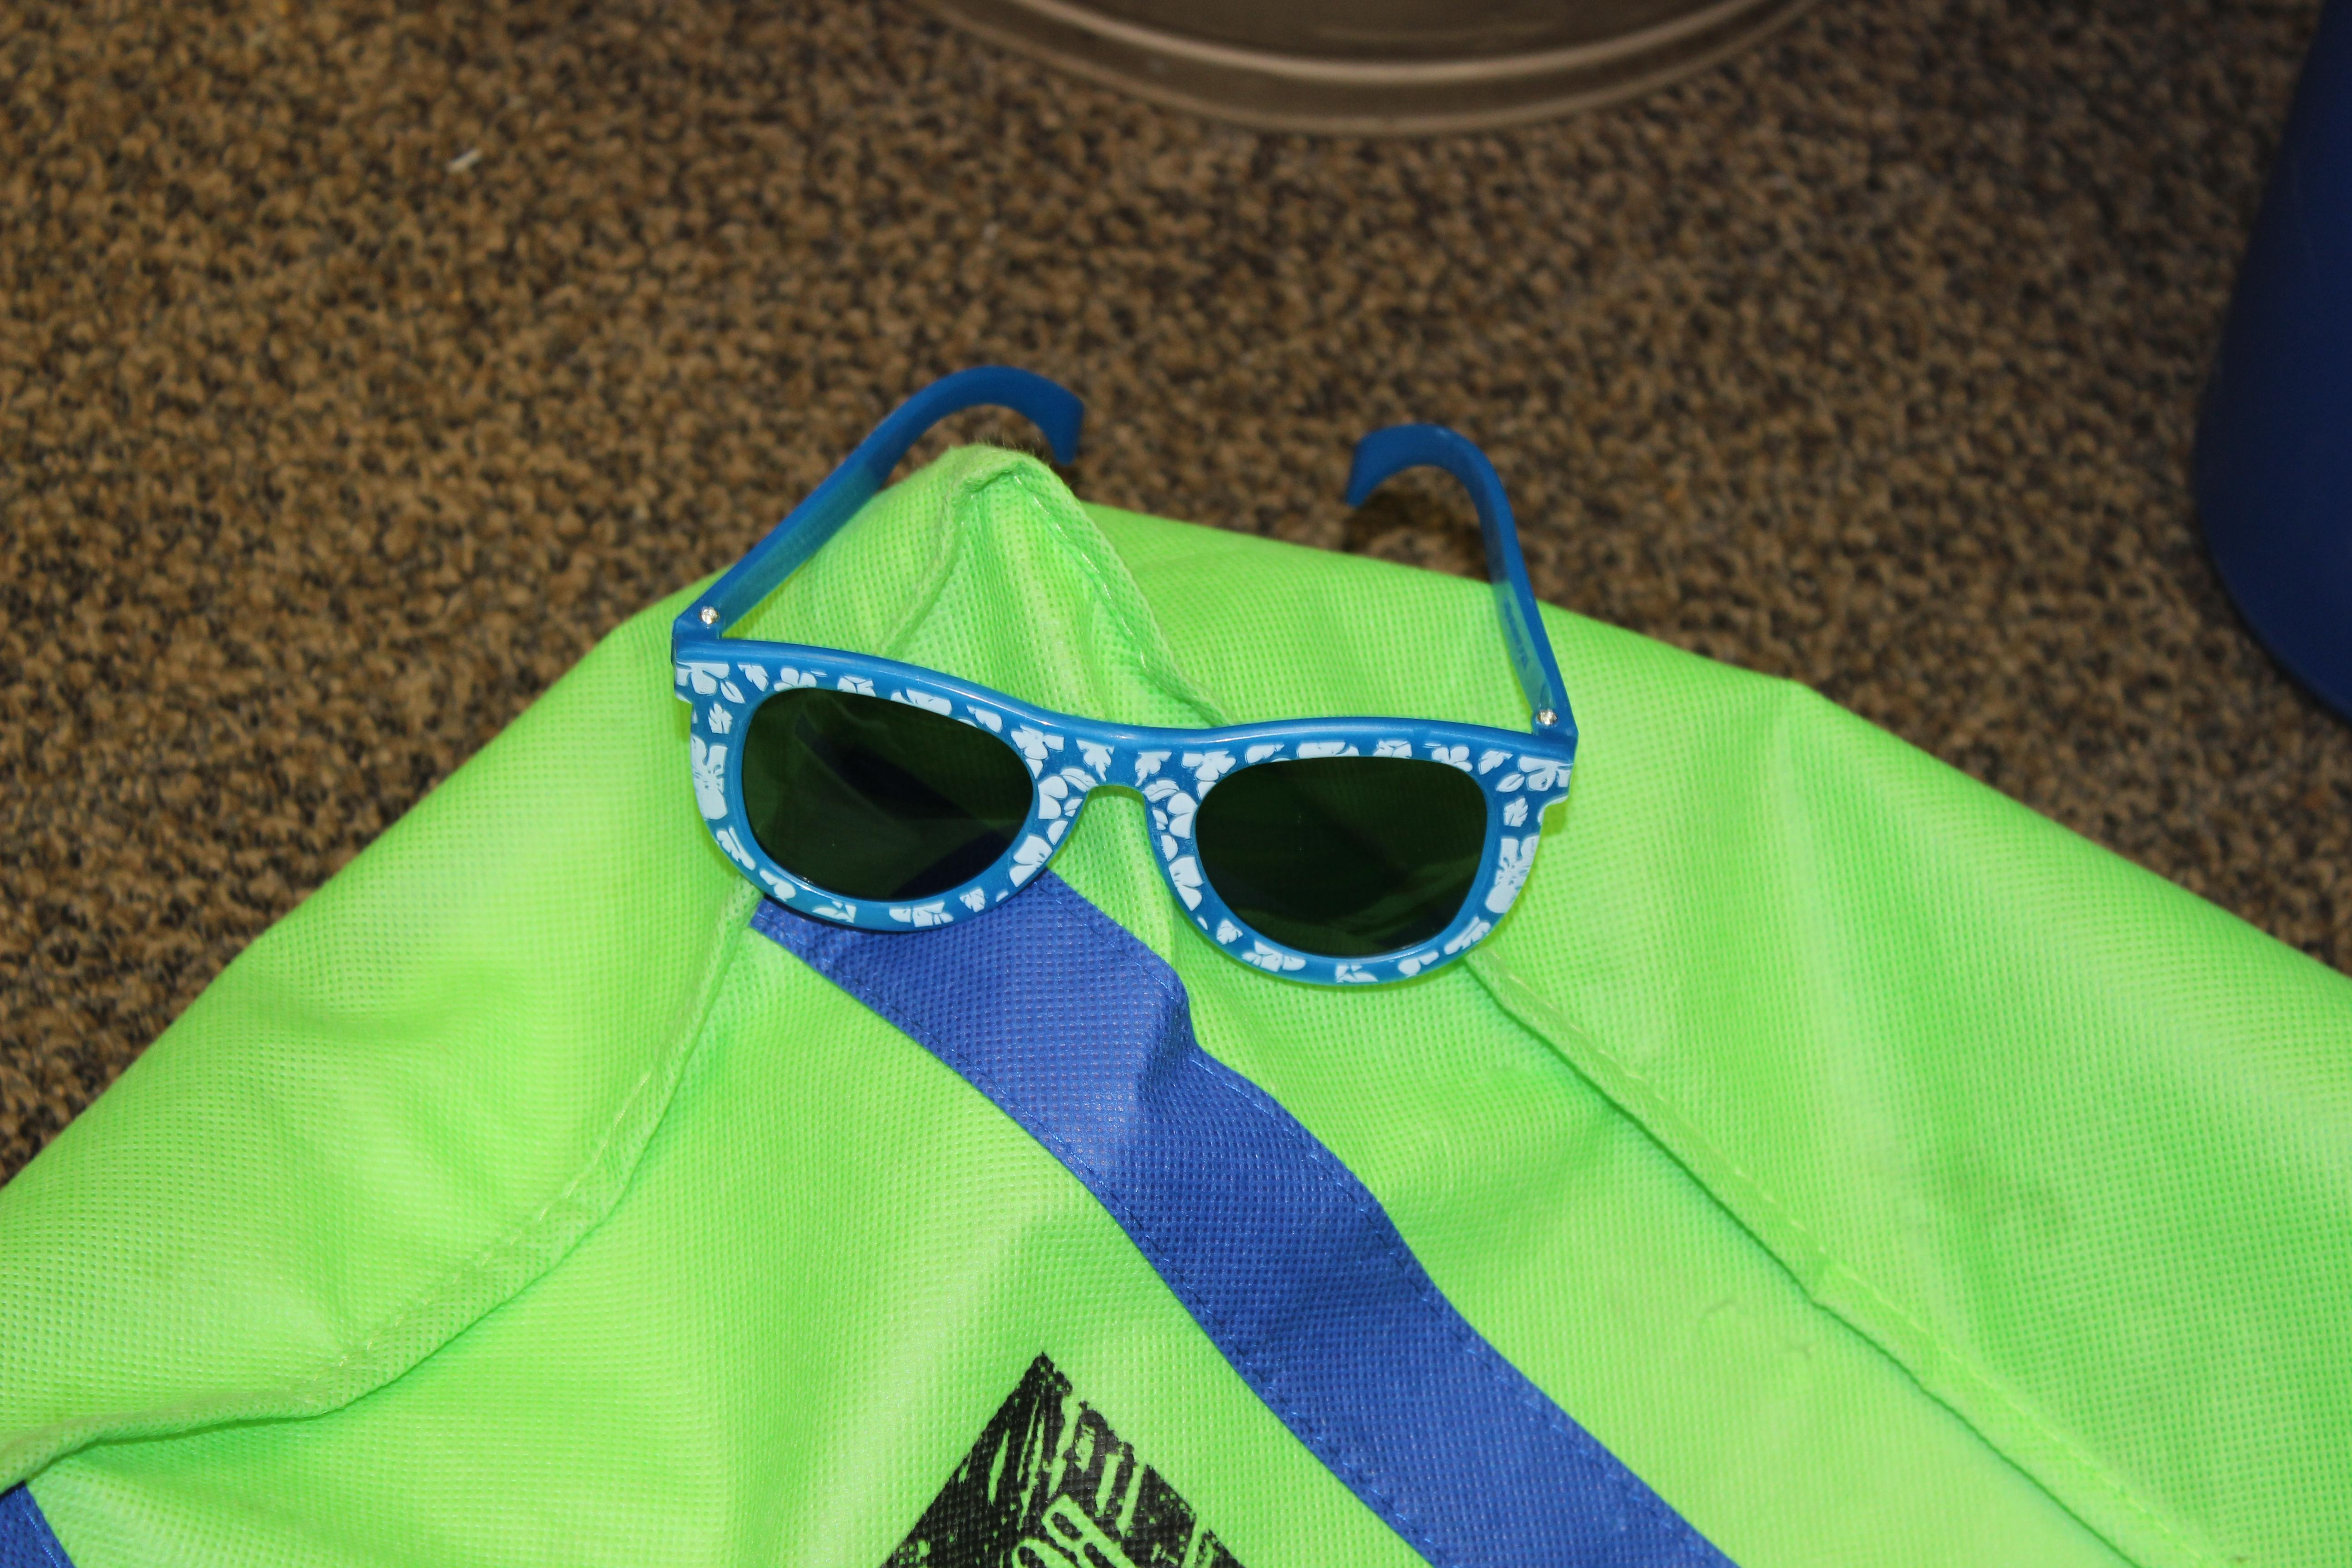blueSunglasses: (630, 340, 1643, 1015)
